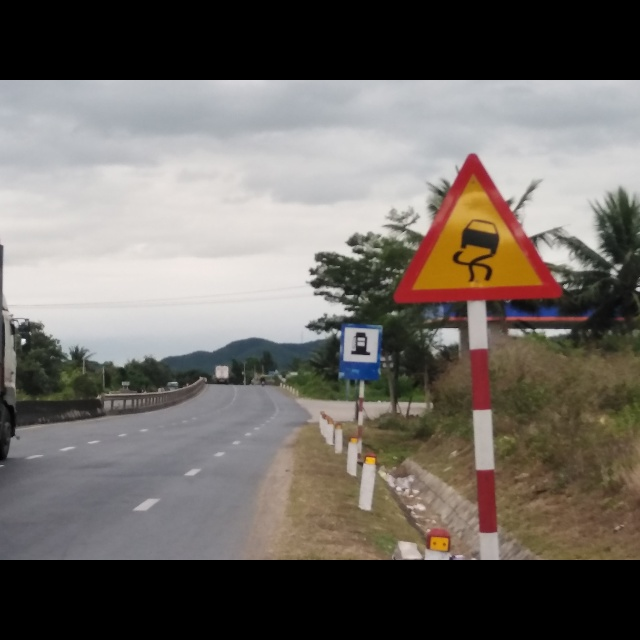Đường trơn trượt: (393, 156, 563, 305)
